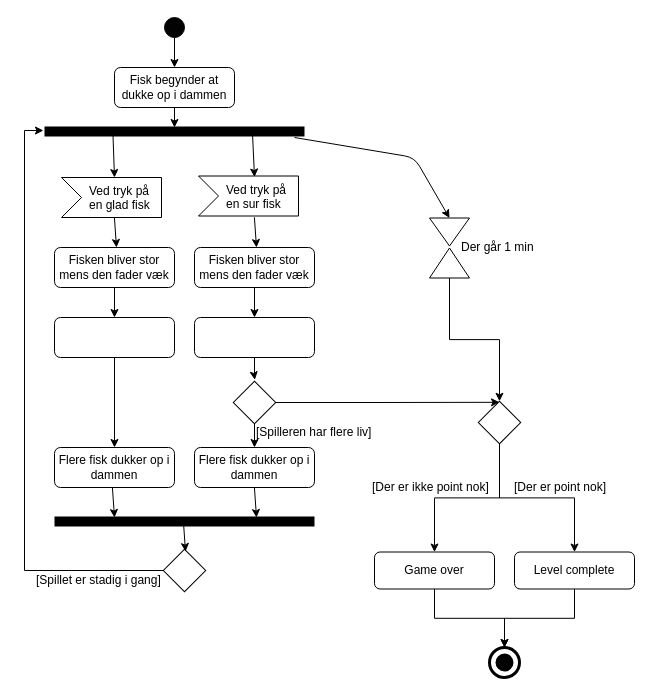
Image size: 652x696. Some labels were removed from this diagram. The shapes that lost their labels are listed below. From the top down, each one's centre as x and y in pixels, then its label:
At (x=114, y=337): "Der gives point efter fiskens størrelse".
At (x=254, y=337): "Spilleren mister et liv".
